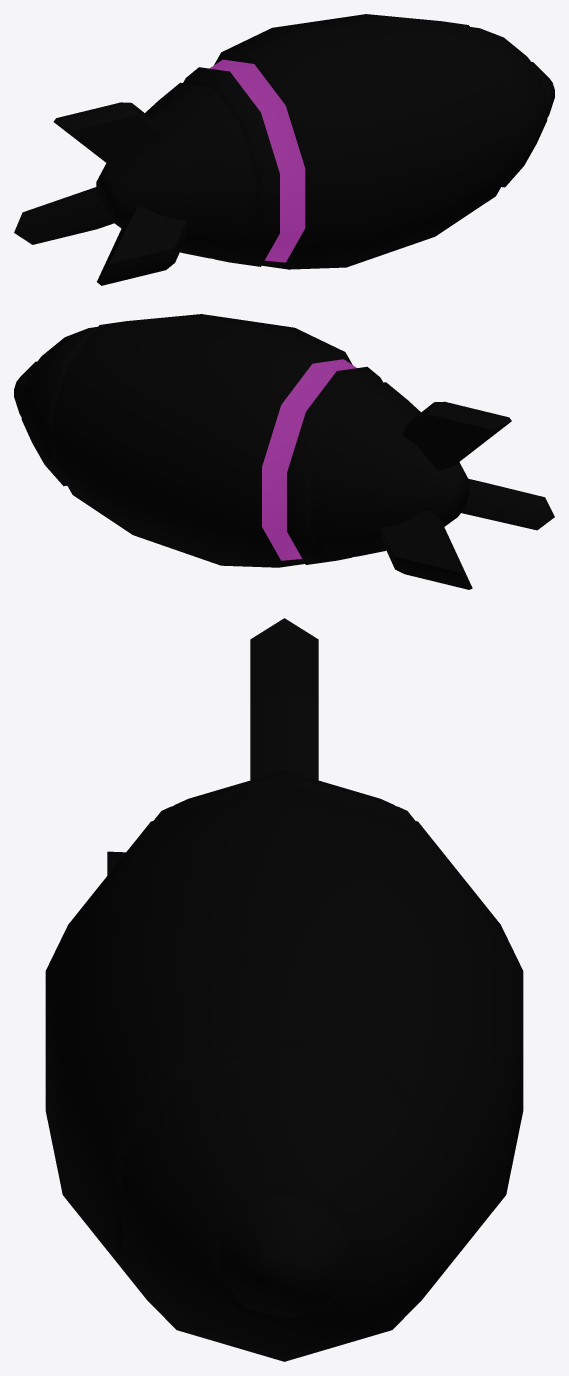
The model's file is bomba(2).fbx.
3 views of the same model, one above another, from view 1: azimuth 30°, elevation 25°; view 2: azimuth 150°, elevation 25°; view 3: azimuth 270°, elevation 25° (orthographic). The views are drawn at different scales.
Parts seen in each view (by area): view 1: bmoba, pCube2, pCube3, pCube4; view 2: bmoba, pCube2, pCube4, pCube3; view 3: bmoba, pCube2.
Boxes of the visible parts, <box> form: bmoba: <box>96,14,554,269</box>; pCube2: <box>53,102,164,170</box>; pCube3: <box>97,206,188,285</box>; pCube4: <box>14,187,113,244</box>; bmoba: <box>14,314,469,567</box>; pCube2: <box>402,401,511,469</box>; pCube4: <box>380,510,472,589</box>; pCube3: <box>461,479,554,530</box>; bmoba: <box>45,770,523,1361</box>; pCube2: <box>250,618,318,780</box>.
Bounding box in the file's own units: 7.01 × 3.1 × 2.95.
